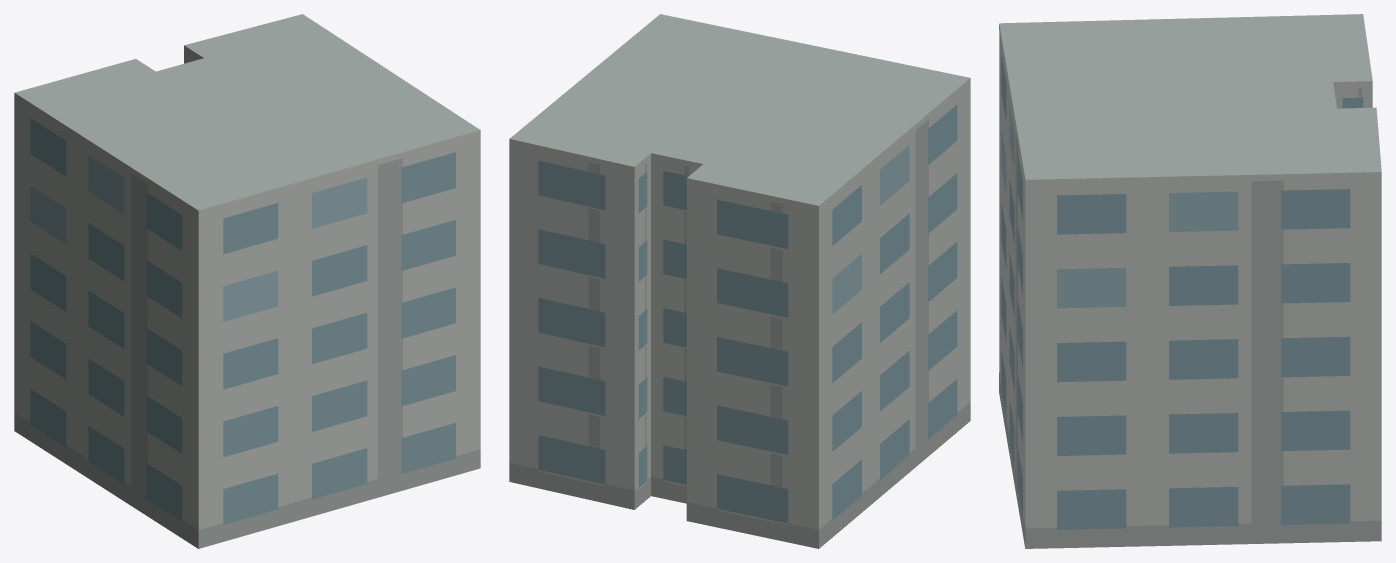
Rendered from survey-upis-32737437.glb.
The picture shows the model from 3 angles, left to right: view 1: azimuth 30°, elevation 25°; view 2: azimuth 150°, elevation 25°; view 3: azimuth 270°, elevation 25°; orthographic projection. The views are drawn at different scales.
Parts seen in each view (by area): view 1: survey-upis-32737437.tmp; view 2: survey-upis-32737437.tmp; view 3: survey-upis-32737437.tmp.
Part boxes in pixels (x1,y1,x2,y2): survey-upis-32737437.tmp: (14, 14, 480, 548); survey-upis-32737437.tmp: (509, 14, 970, 548); survey-upis-32737437.tmp: (999, 14, 1381, 548).
Size of the model in its own units: 13.47 by 13.98 by 13.14.
